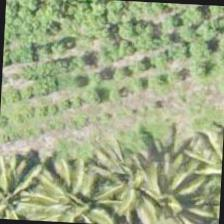Kelapa_Sawit: (119, 146, 215, 223), (82, 147, 178, 223), (30, 165, 125, 223), (0, 160, 58, 221)
